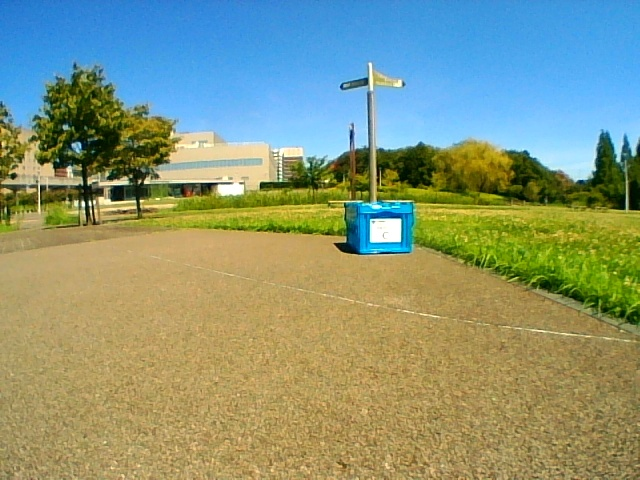blue_box: (347, 202, 412, 253)
tag: (370, 219, 399, 241)
